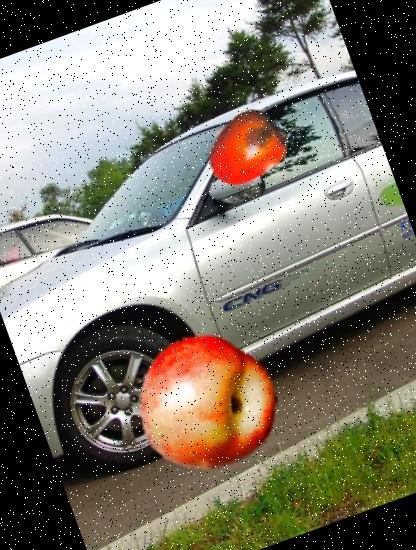Kaki: (192, 93, 301, 202)
Nectarine: (118, 312, 297, 492)
